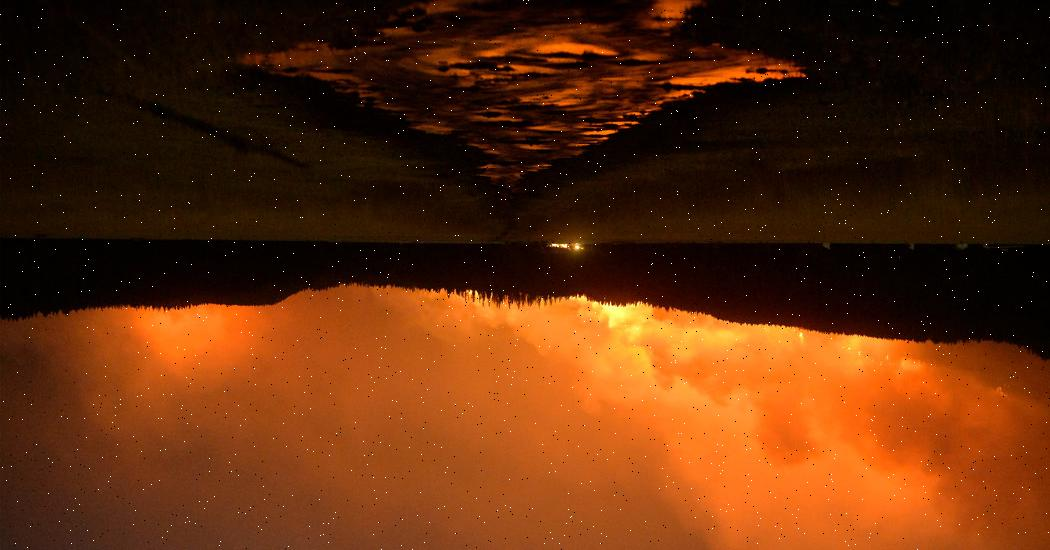fire: (534, 291, 958, 390)
